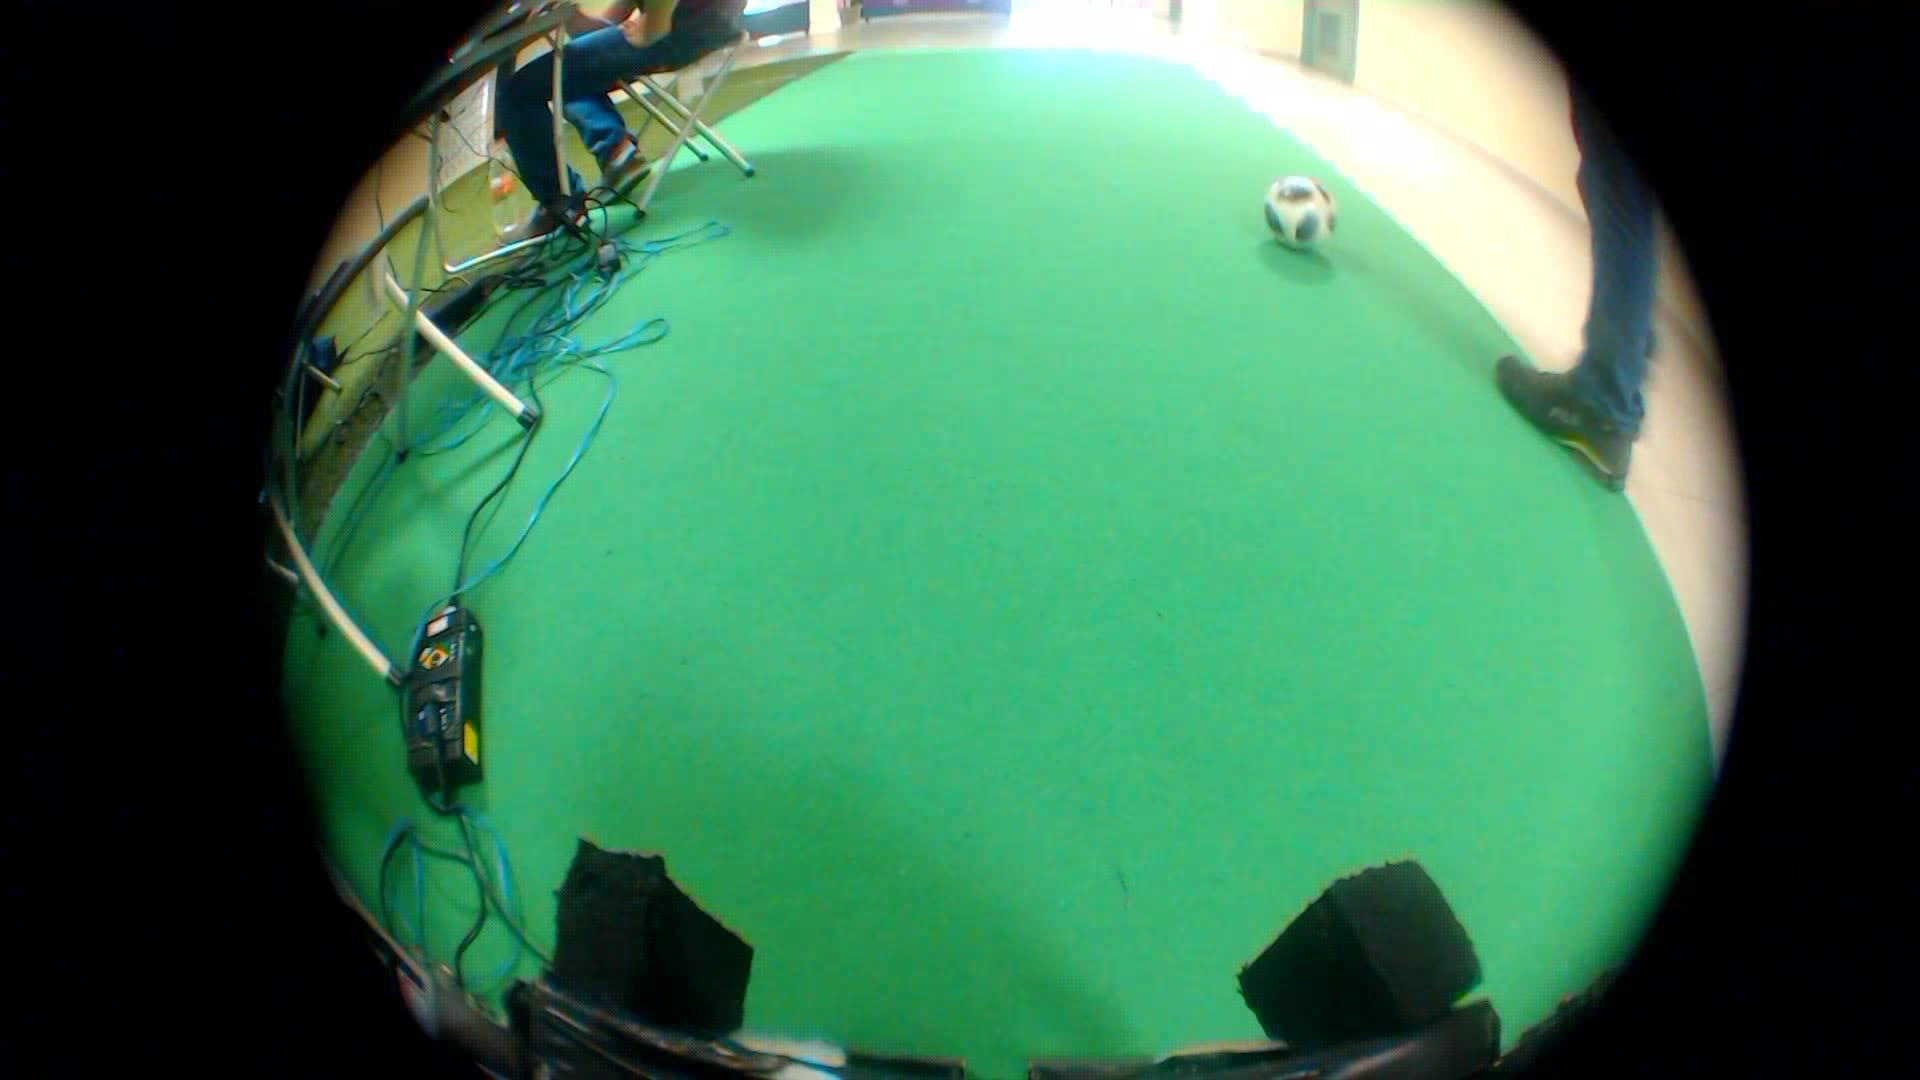ball: (1258, 164, 1346, 255)
